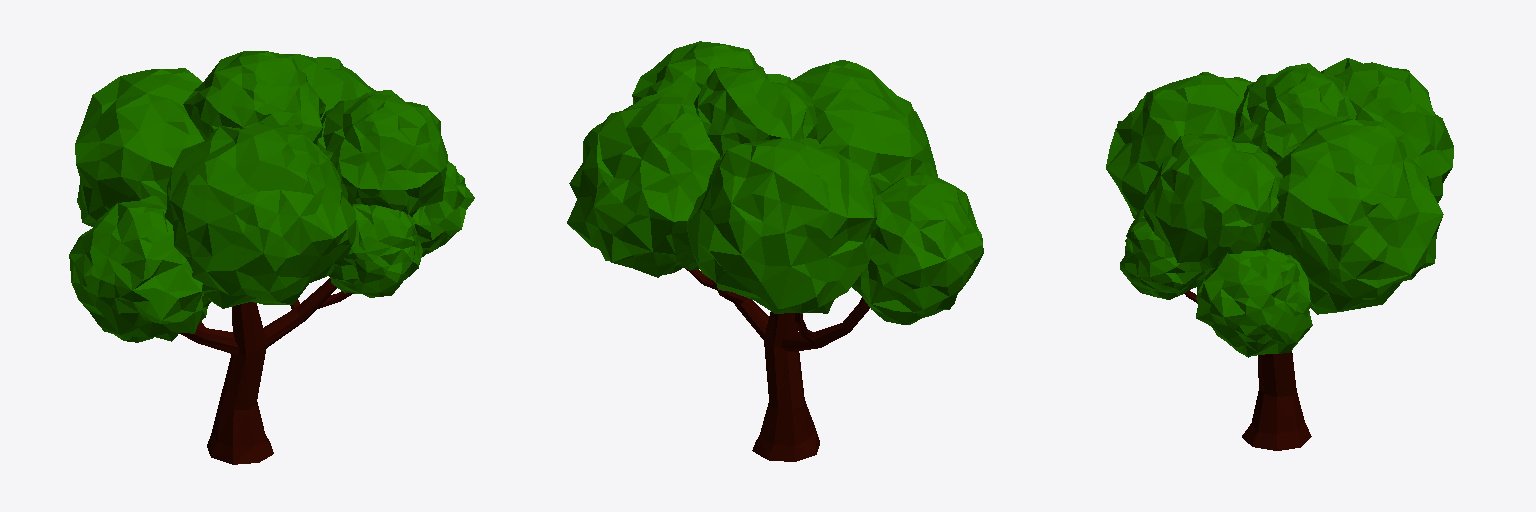
Rendered from treeR1.obj.
3 renders of one model, left to right at view 1: azimuth 30°, elevation 25°; view 2: azimuth 150°, elevation 25°; view 3: azimuth 270°, elevation 25°, orthographic.
Visible parts, largest first — view 1: Tree.3; view 2: Tree.3; view 3: Tree.3.
Part boxes in pixels (bbox=[...]): Tree.3: bbox=[69, 51, 474, 464]; Tree.3: bbox=[567, 41, 983, 461]; Tree.3: bbox=[1106, 58, 1453, 450].
Size of the model in its own units: 24.54 by 22.85 by 19.13.